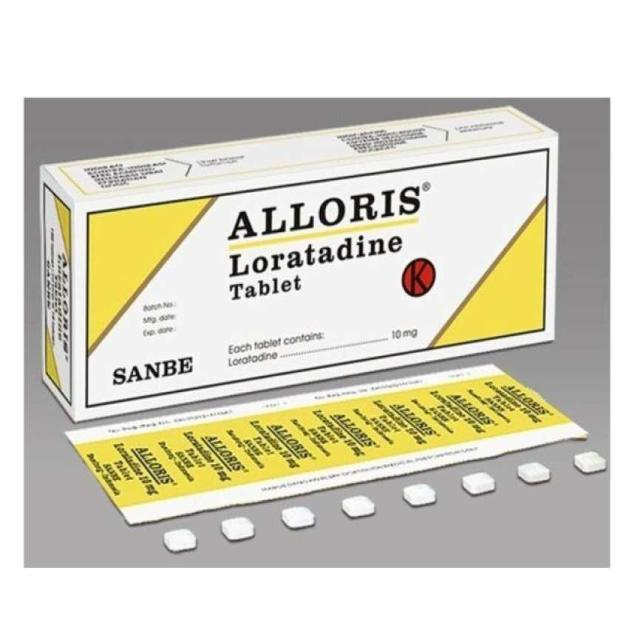drug-name: (224, 182, 435, 242)
